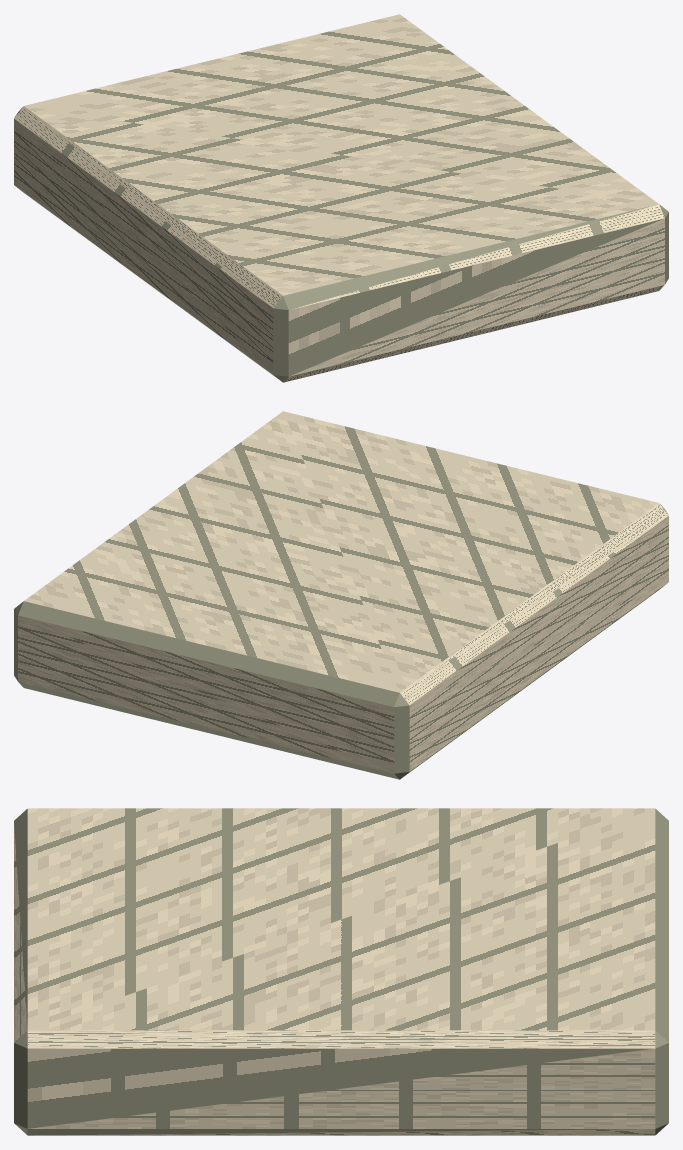
File: f_down_mattress.glb
3 views of the same model, one above another, from view 1: azimuth 30°, elevation 25°; view 2: azimuth 150°, elevation 25°; view 3: azimuth 270°, elevation 25° (orthographic). The views are drawn at different scales.
Visible parts, largest first — view 1: block_mattress-0; view 2: block_mattress-0; view 3: block_mattress-0.
Boxes of the visible parts, <box> form: block_mattress-0: <box>14,14,668,382</box>; block_mattress-0: <box>14,411,668,779</box>; block_mattress-0: <box>14,808,668,1135</box>.
Bounding box in the file's own units: 0.81 × 0.17 × 0.96.
1 material, 1 textured.
